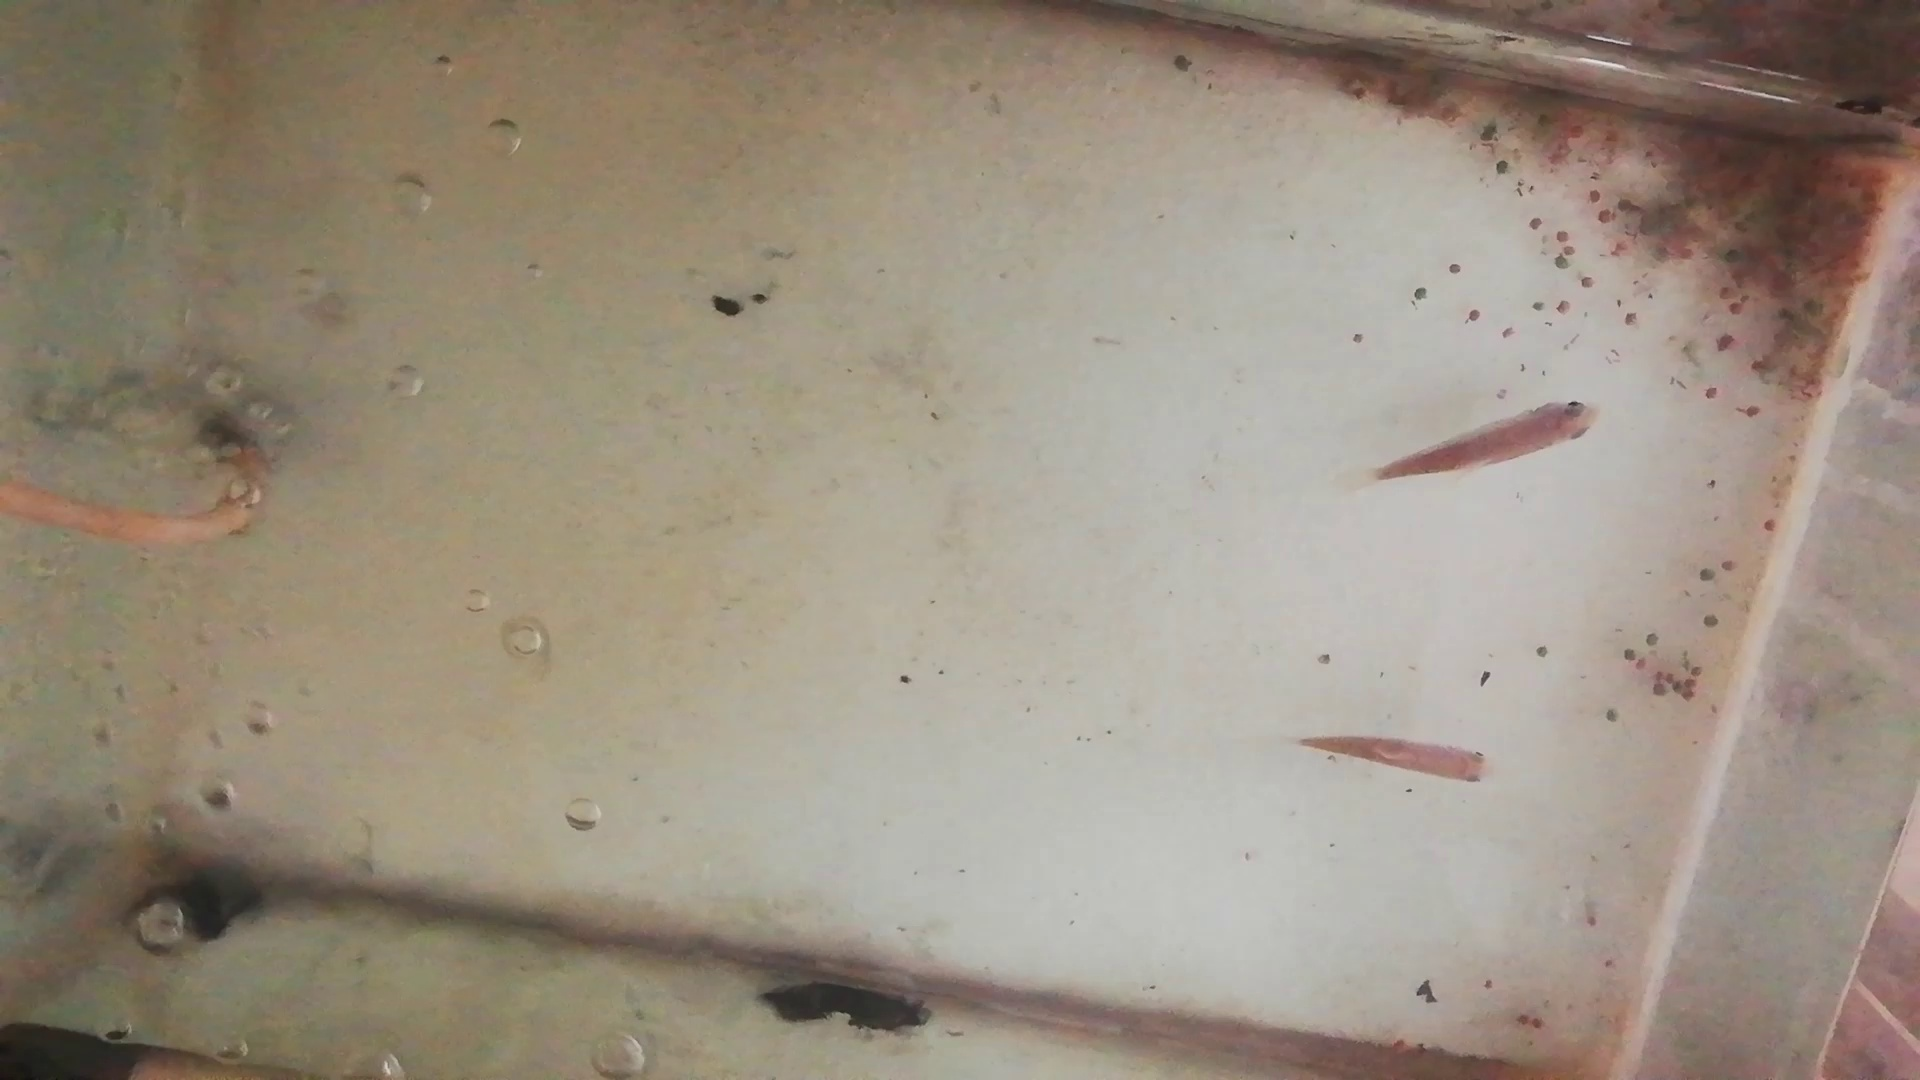fish: (1378, 400, 1600, 483), (1294, 731, 1499, 789)
